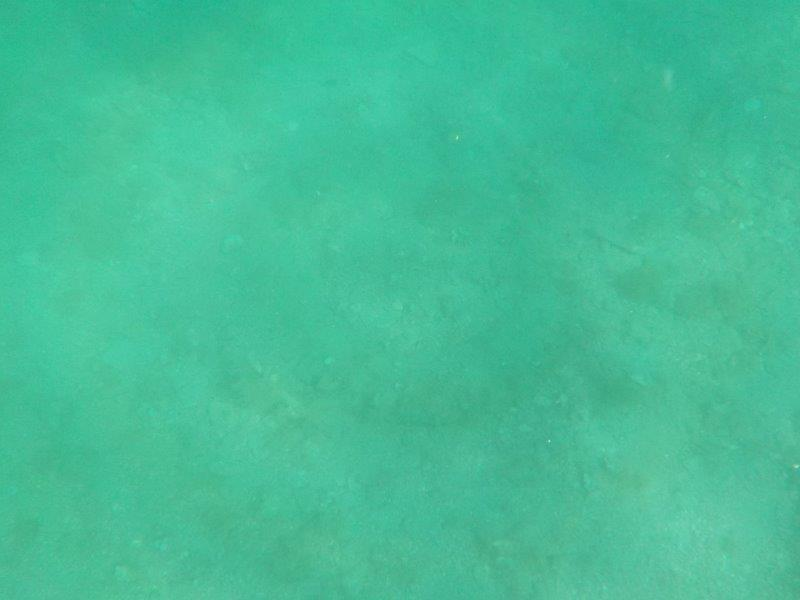tire: (241, 132, 574, 422)
